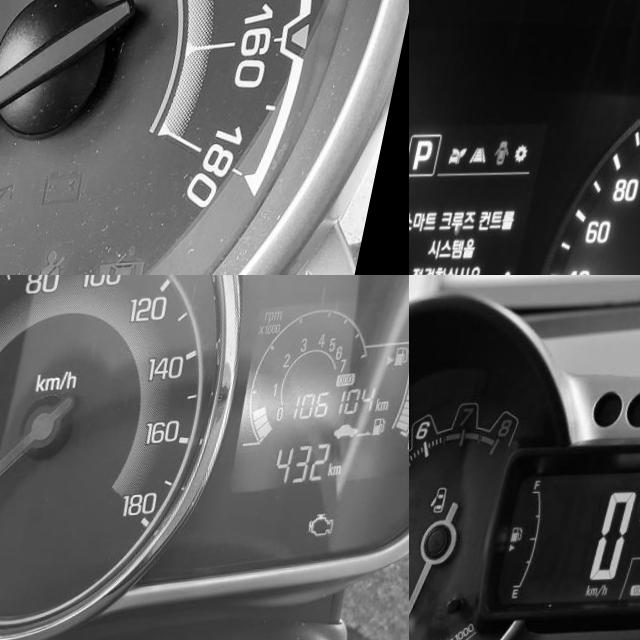Doors: (113, 255, 167, 275), (439, 487, 459, 516), (500, 141, 519, 169)
